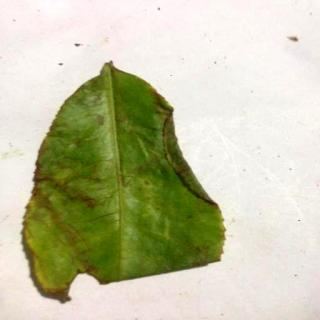Red Leaf Spot: (24, 63, 228, 301)
